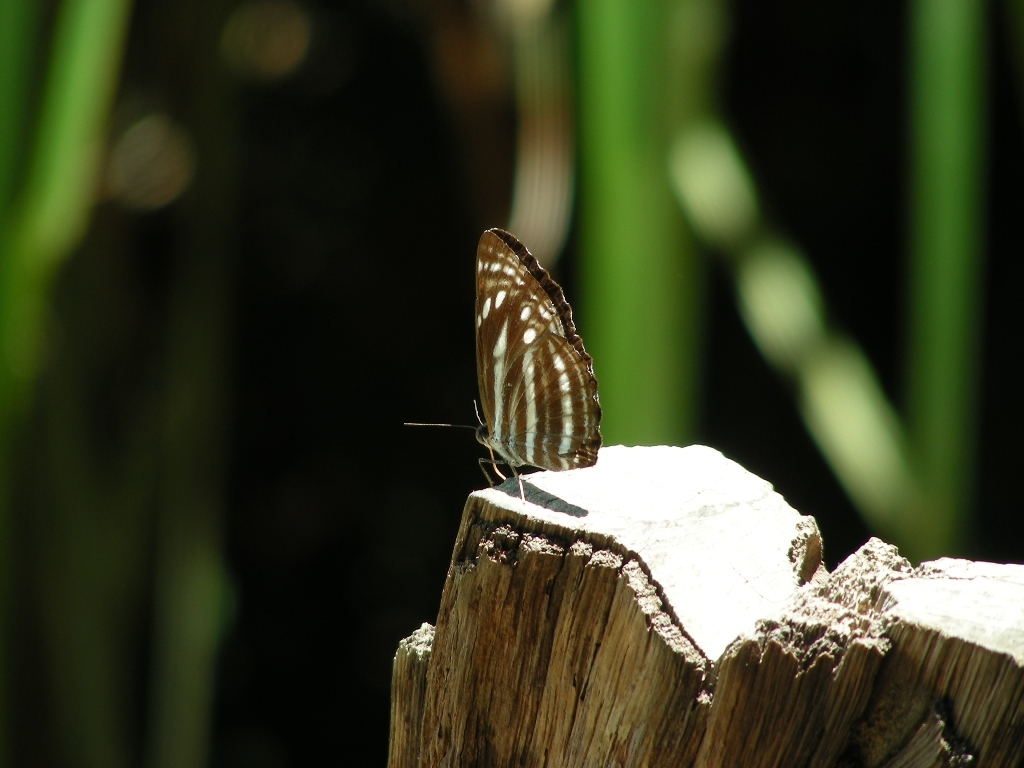Butterfly: (438, 216, 618, 489)
